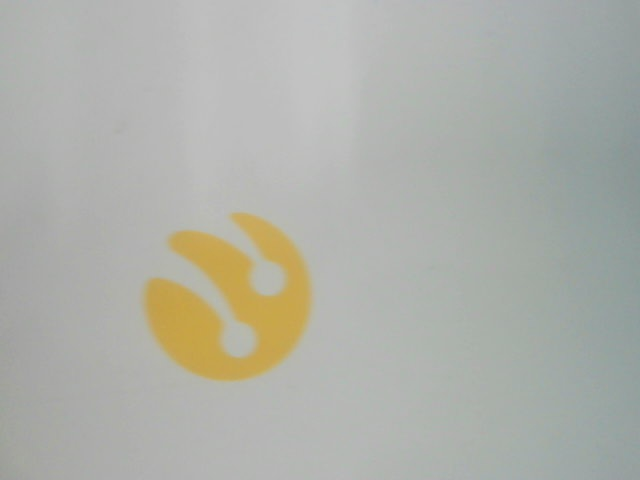AV_H3600Yellow: (132, 210, 320, 387)
